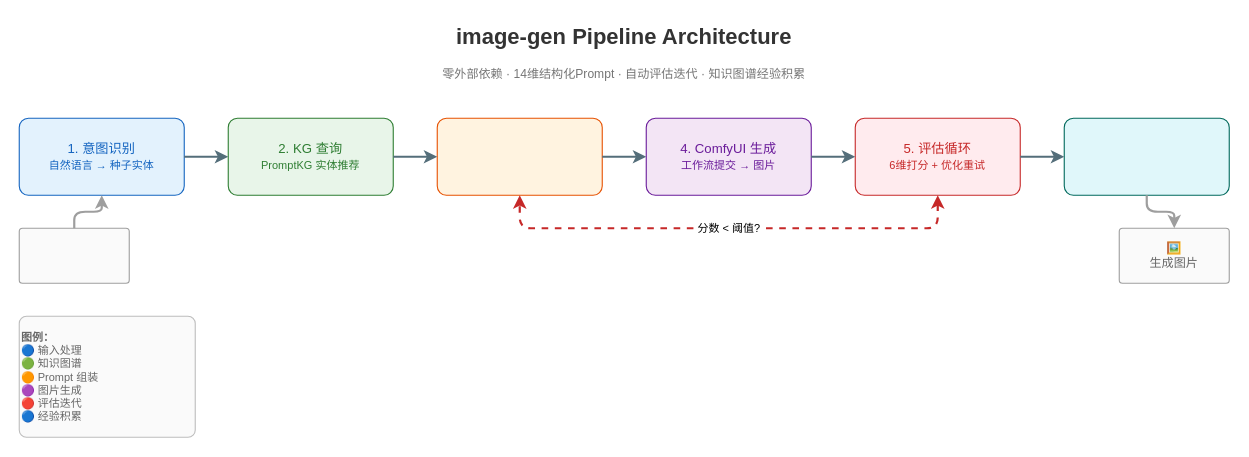
Image size: 1249x457. Some labels were removed from this diagram. Each missing label, with the centre of its shape:
3. Prompt 生成 14维 JSON → 文本: pixel 519 156
6. 经验积累 回写知识图谱: pixel 1146 156
📝 自然语言输入: pixel 73 255
